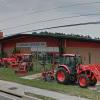Tractor: (31, 41, 100, 89)
